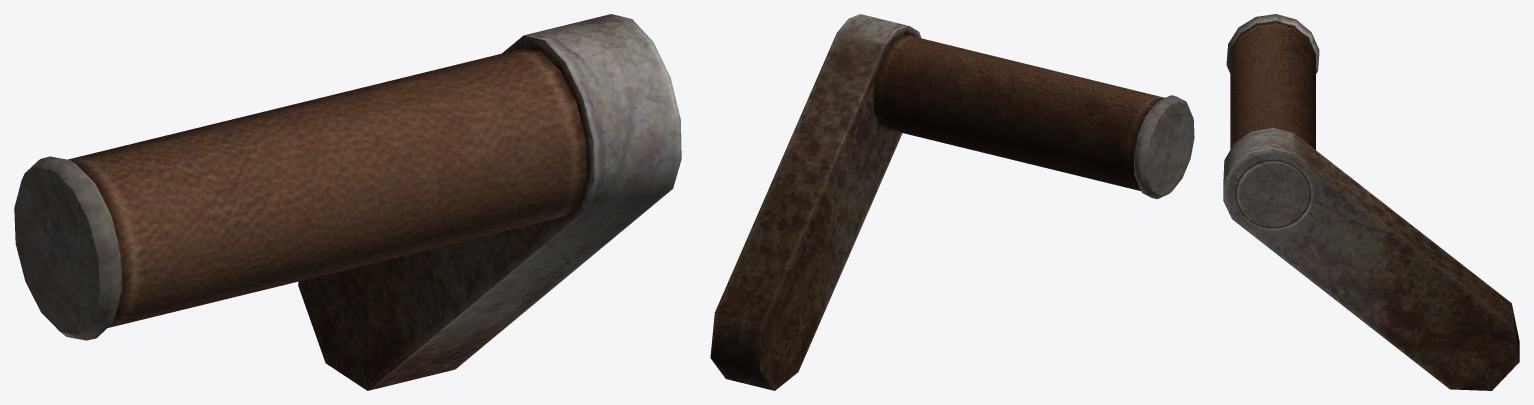
File: electric_switch.dae
The picture shows the model from 3 angles, left to right: view 1: azimuth 30°, elevation 25°; view 2: azimuth 150°, elevation 25°; view 3: azimuth 270°, elevation 25°; orthographic projection. The views are drawn at different scales.
Parts seen in each view (by area): view 1: polySurface13; view 2: polySurface13; view 3: polySurface13.
Part boxes in pixels (x1=…): polySurface13: x1=14, y1=14, x2=681, y2=390; polySurface13: x1=710, y1=14, x2=1194, y2=390; polySurface13: x1=1223, y1=14, x2=1519, y2=390.
Bounding box in the file's own units: 0.2895 × 0.2324 × 0.258.
